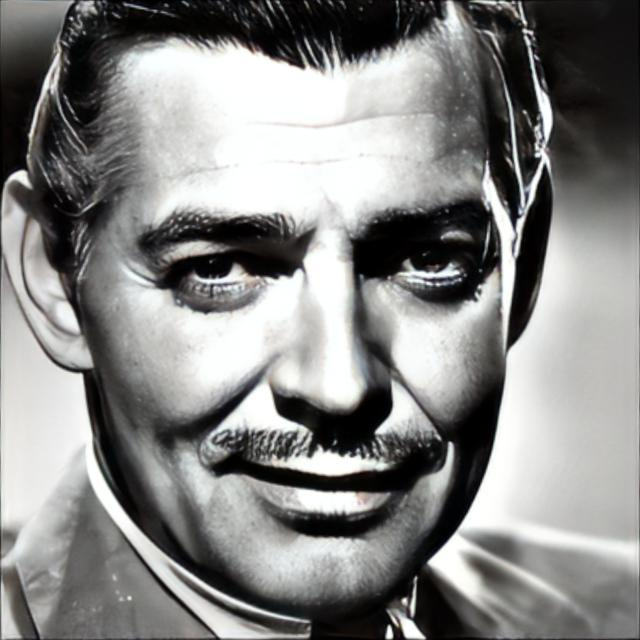content: (101, 47, 514, 617)
